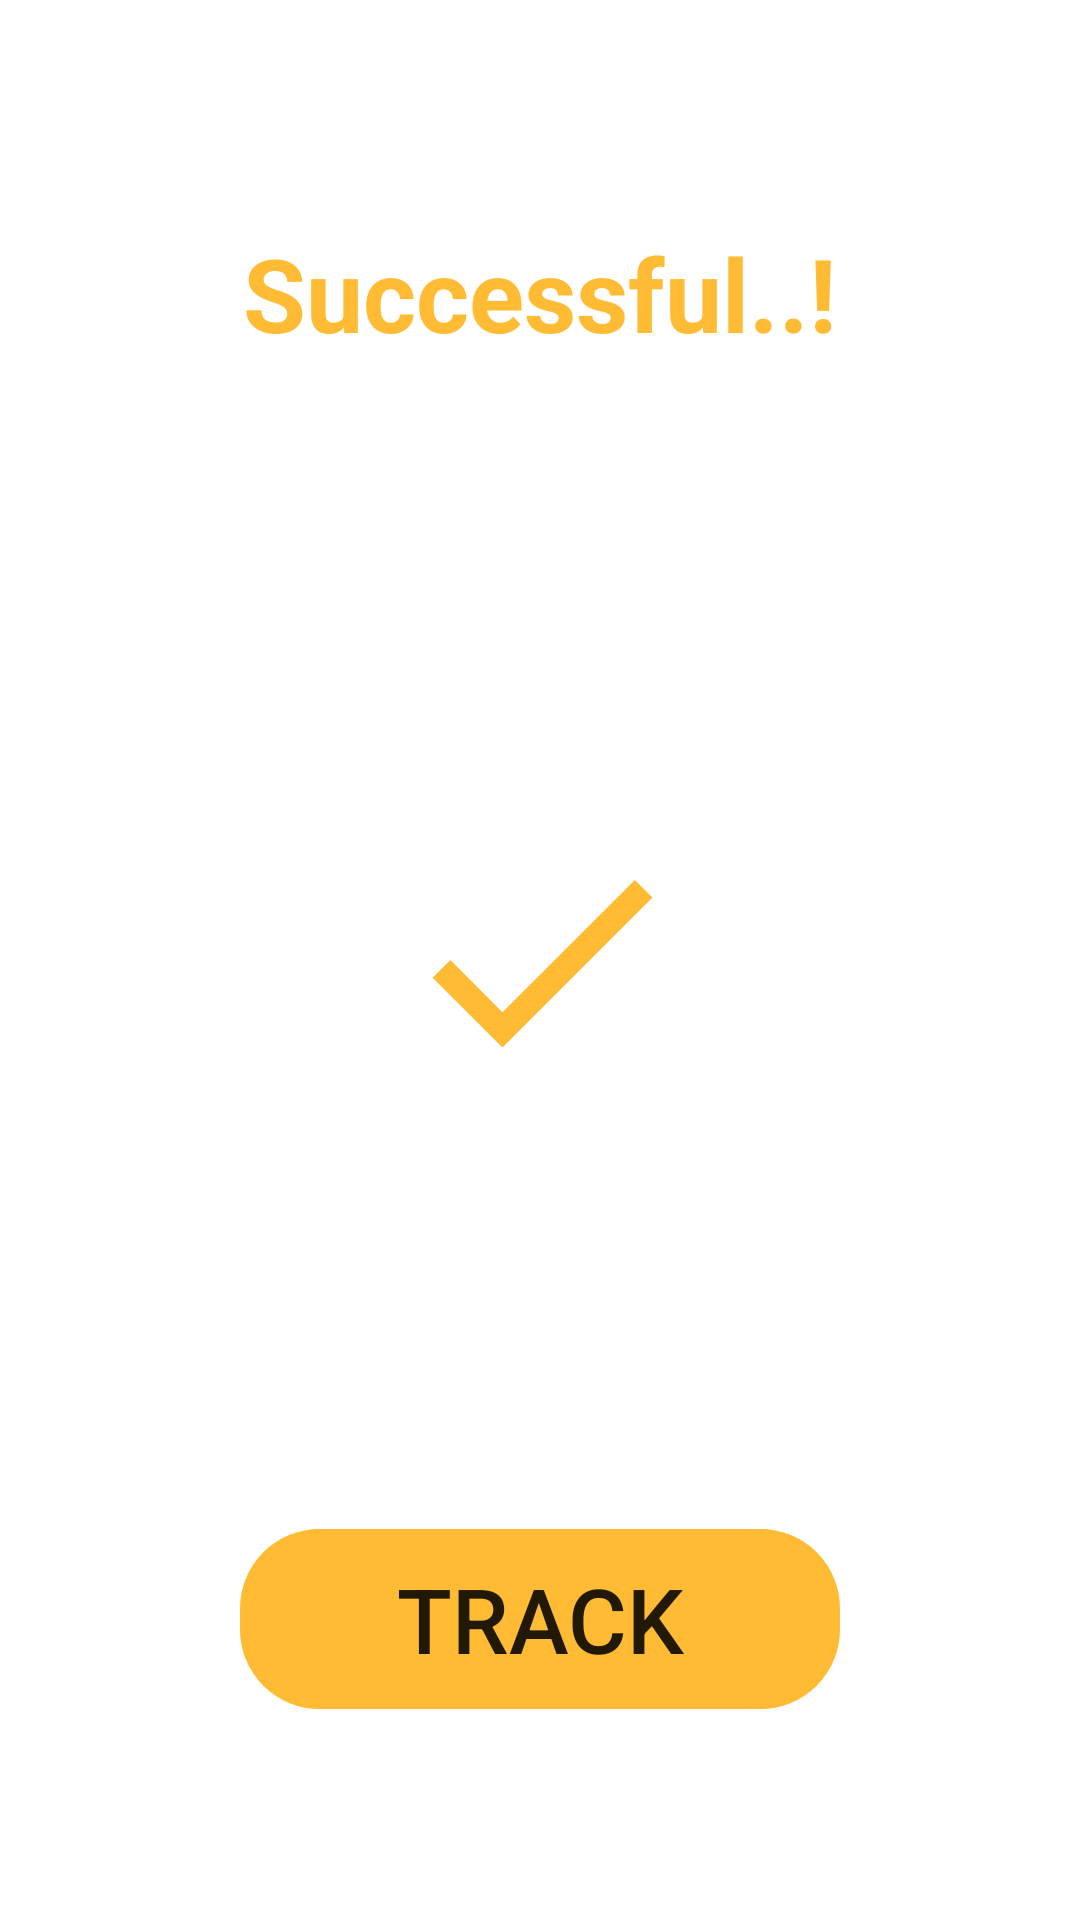

Icon click points for this 1080*1920 phone screenshot, format (x=x, y=y):
check: (x=542, y=964)
